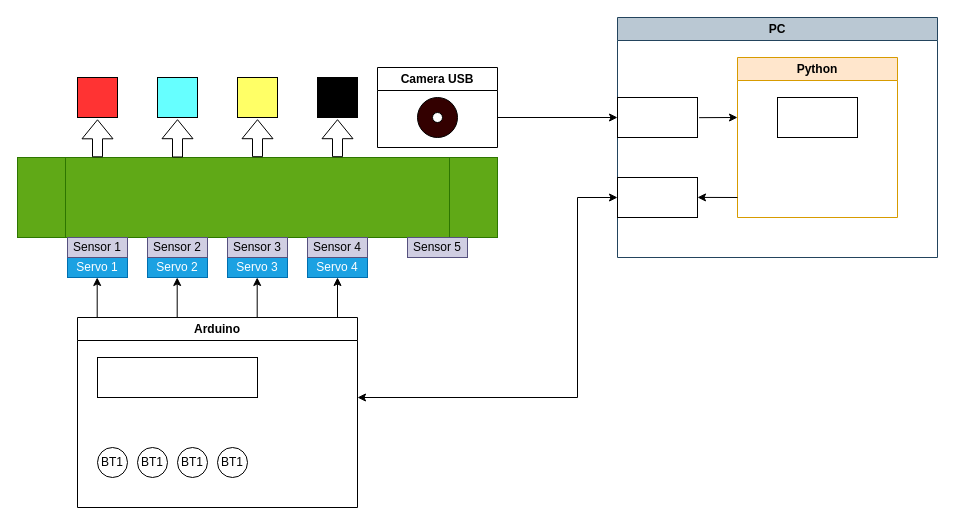
This 955x525 diagram has some shape labels left out. Here are the shapes that lost their labels. From the top down, the centre of each, then its label:
(x=657, y=117): USB Port
(x=817, y=117): OpenCV
(x=257, y=197): Băng truyền
(x=657, y=197): COM Port
(x=177, y=377): LCD
